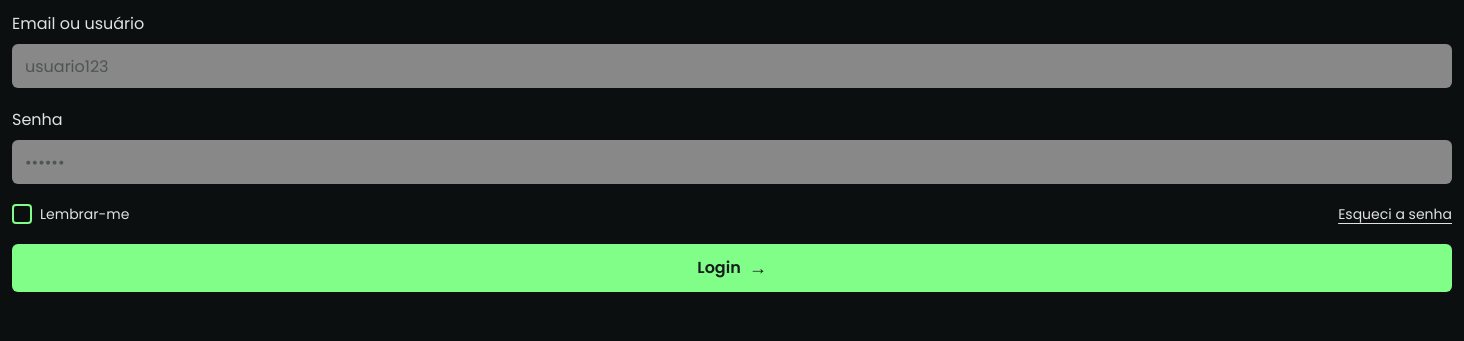
Scenario: LoginForm › cobra o tamanho mínimo da senha
Type "ana.dev" into the field labelled "Email ou usuário" at (732, 66), box [12,44,1452,88]
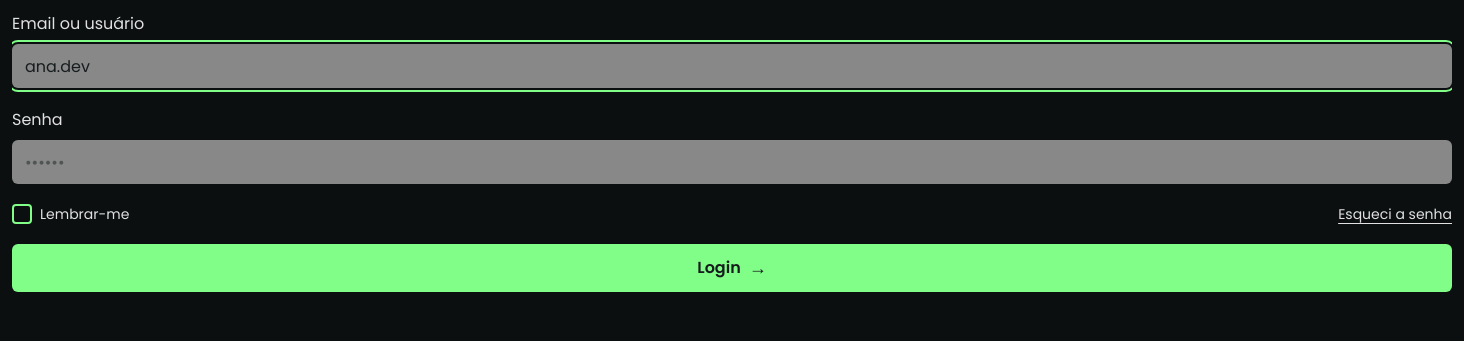
Type "123" into the password field labelled "Senha" at (732, 162), box [12,140,1452,184]
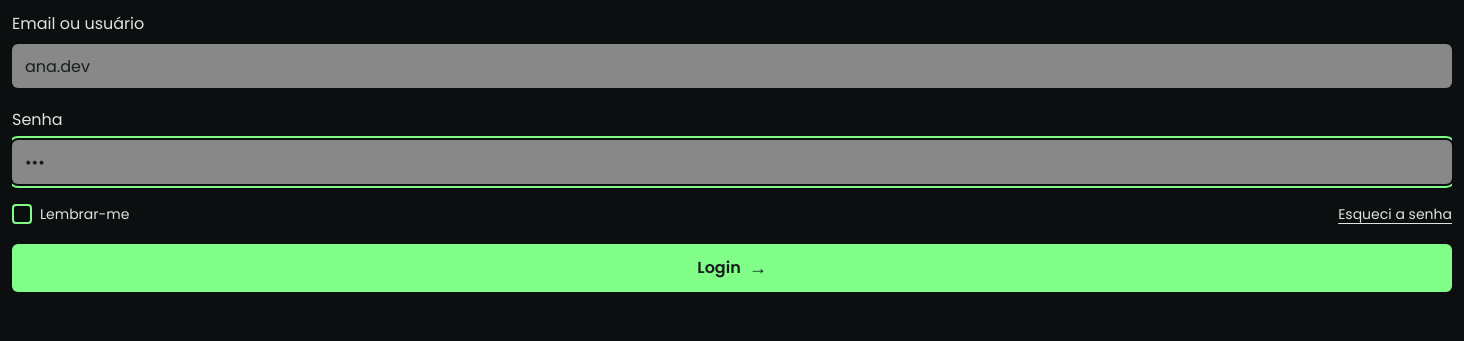
Click the button "Login →" at (732, 268), box [12,244,1452,292]
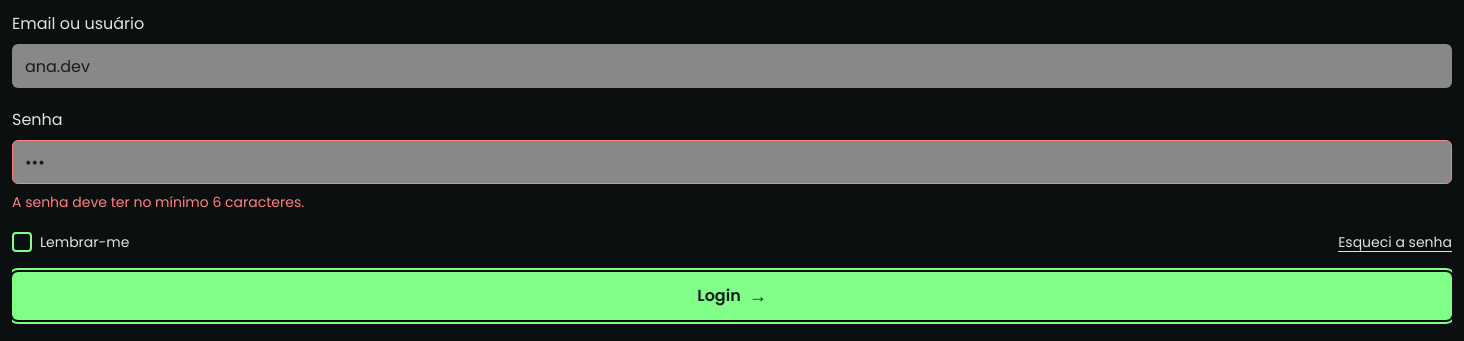
Now the text "A senha deve ter no mínimo 6 caracteres." is shown, box [12,192,304,212]
